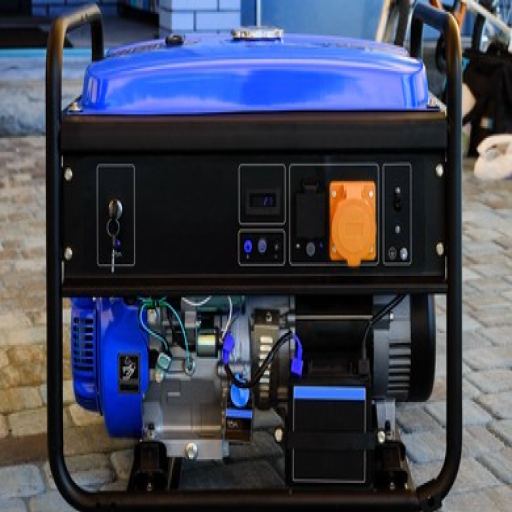portable_generator: (44, 3, 462, 512)
